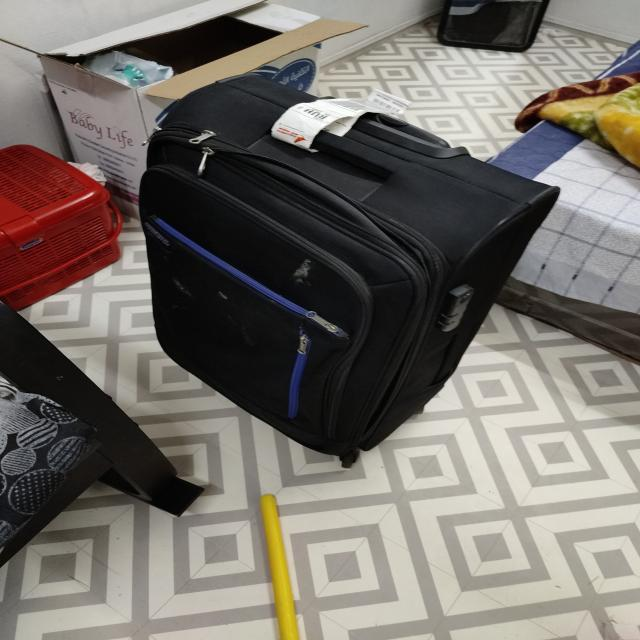suitcaserotation: (133, 68, 565, 472)
